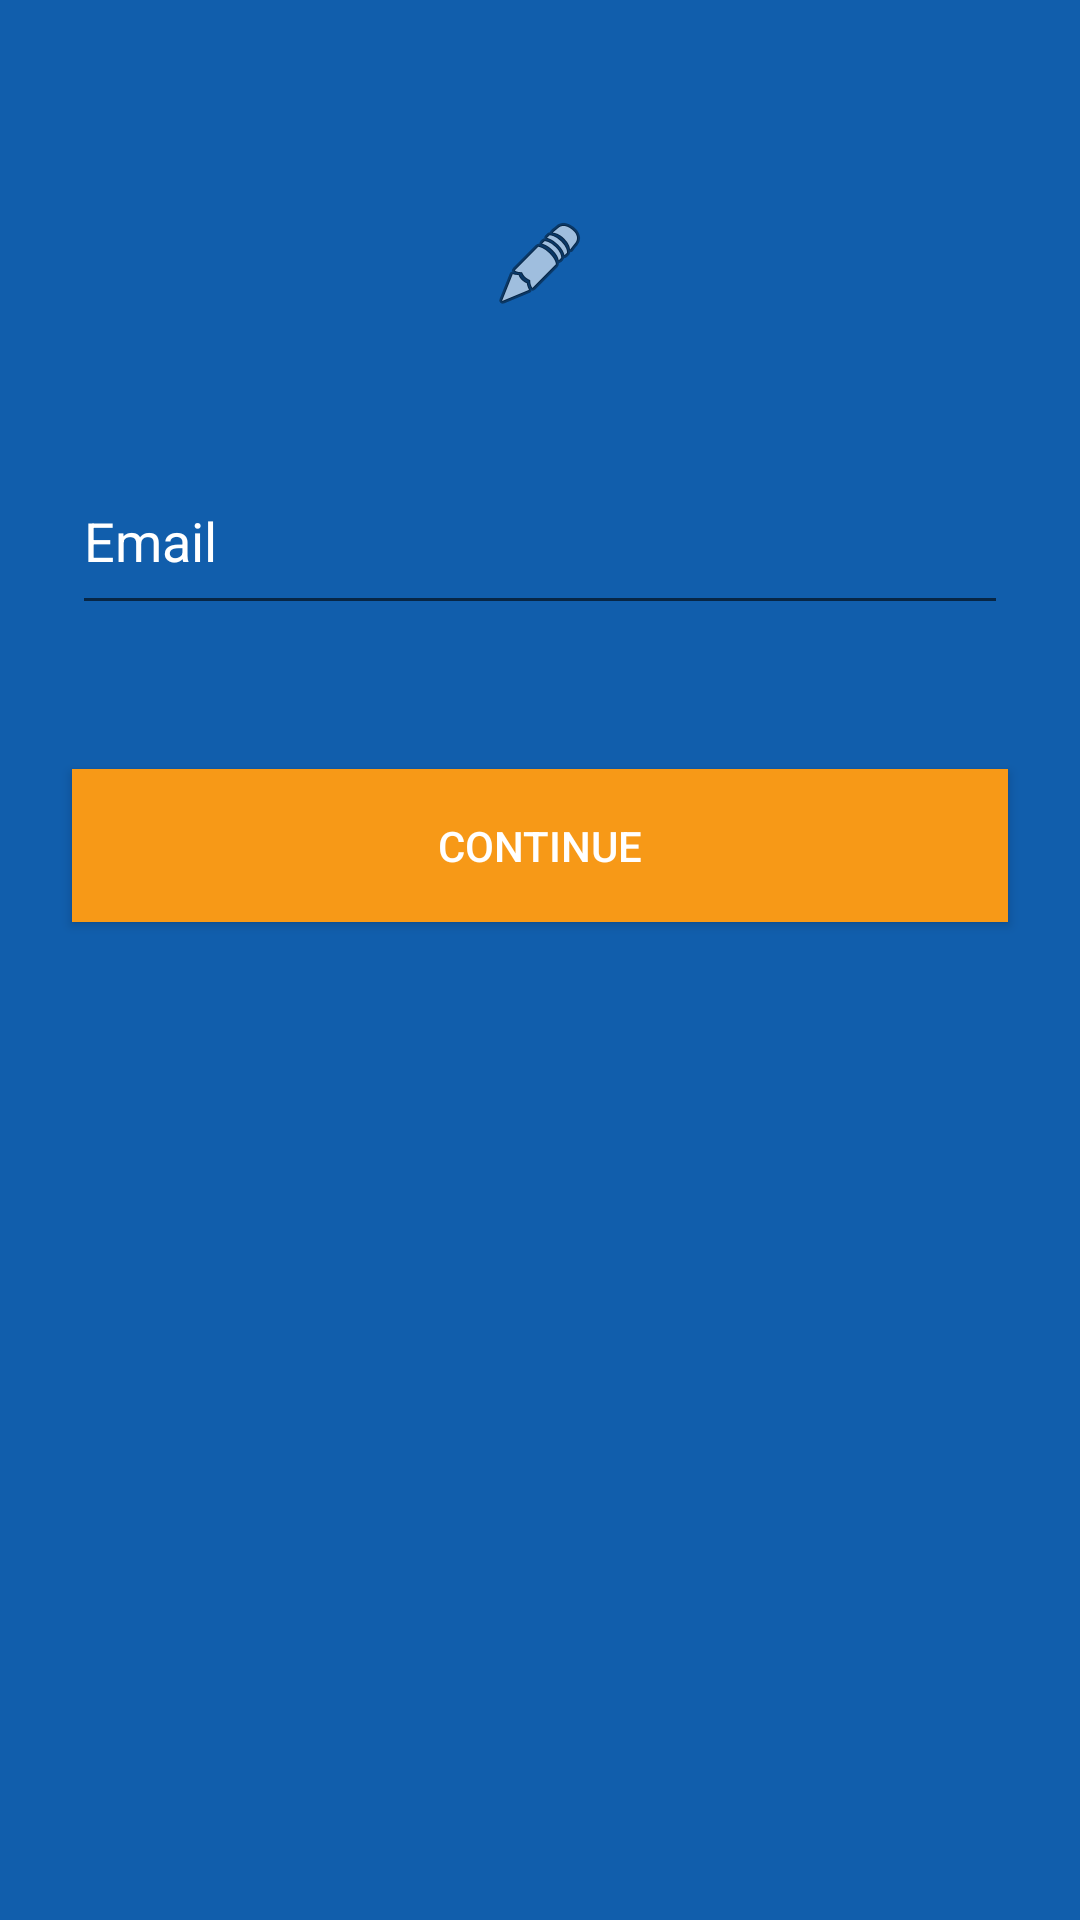

Screen size 1080 x 1920. Icon name, then its box in pixels as [x1, y1, x2, y2]:
edit: [499, 223, 580, 304]
